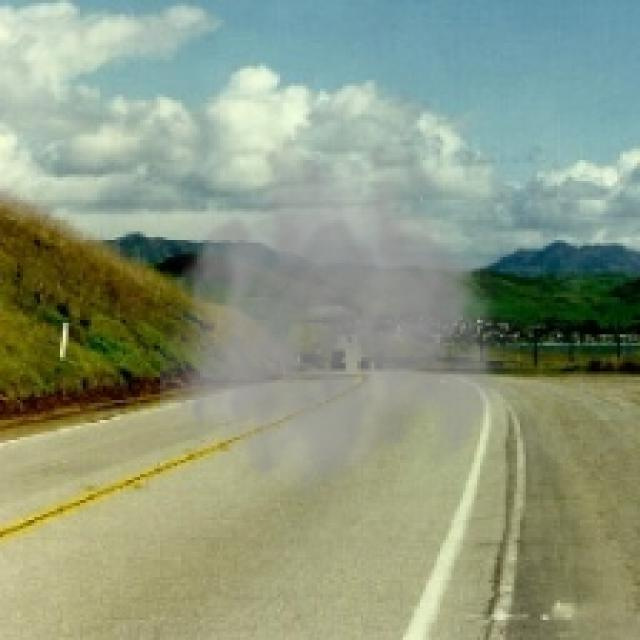Smoke: (159, 134, 532, 506)
